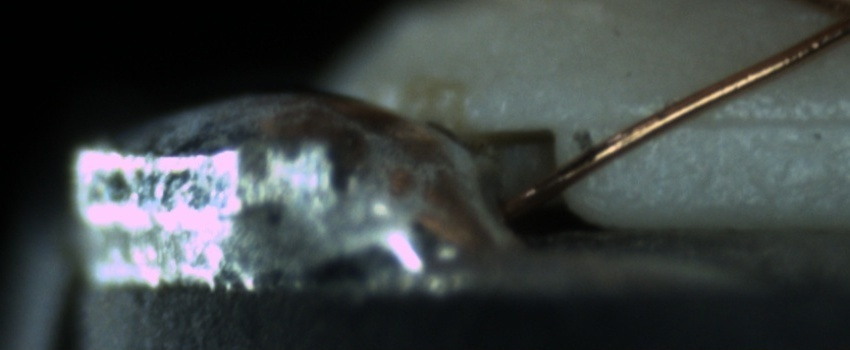CL: (809, 2, 850, 42)
DL: (673, 89, 848, 157)
